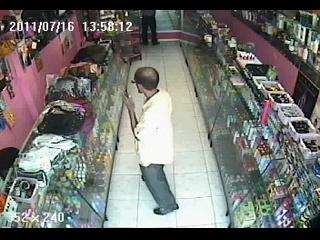Normal: (122, 67, 180, 216), (140, 10, 160, 46)
